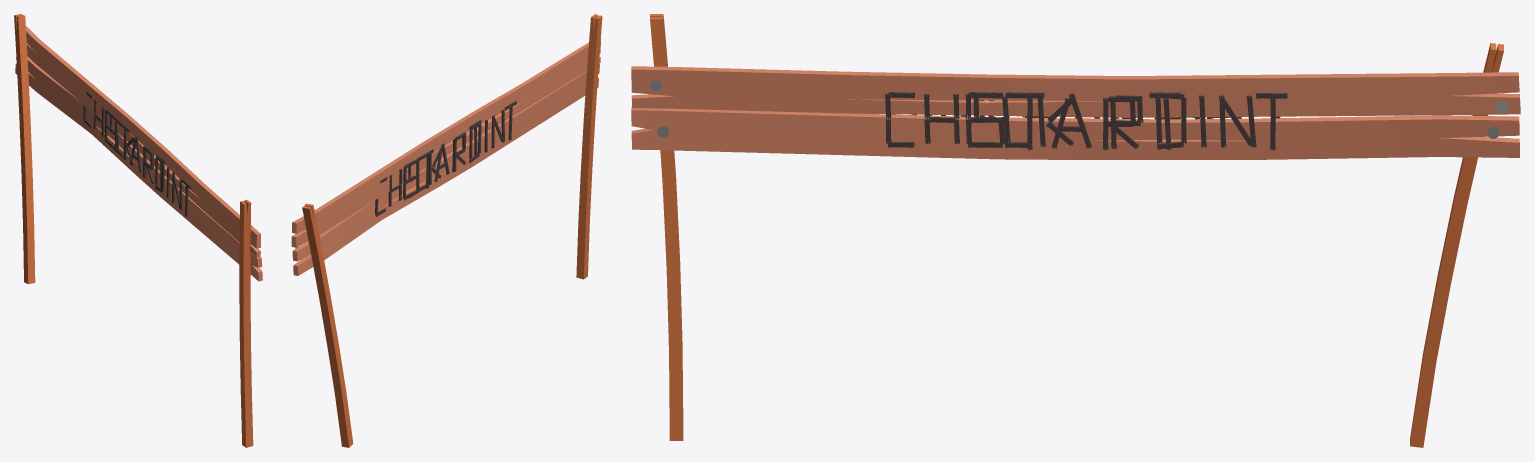
The model's file is start_check.fbx.
3 views of the same model, side by side, from view 1: azimuth 30°, elevation 25°; view 2: azimuth 150°, elevation 25°; view 3: azimuth 270°, elevation 25° (orthographic). The views are drawn at different scales.
Parts seen in each view (by area): view 1: Start, Checkpoint; view 2: Checkpoint, Start; view 3: Start, Checkpoint.
Boxes of the visible parts, <box> form: Start: <box>14,15,262,447</box>; Checkpoint: <box>14,14,260,384</box>; Checkpoint: <box>291,15,602,447</box>; Start: <box>293,14,602,447</box>; Start: <box>631,14,1519,447</box>; Checkpoint: <box>649,16,1520,446</box>.
Size of the model in its own units: 229 by 1286 by 2477.
